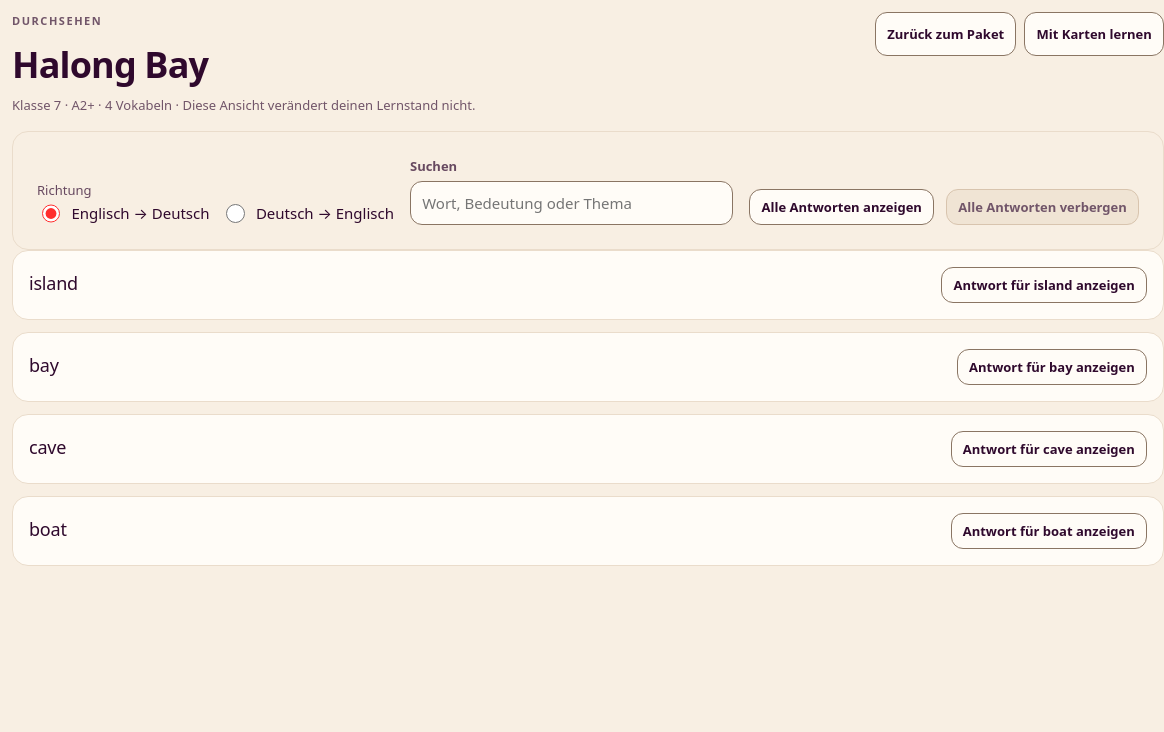
Test: Vokabeln durchsehen › sagt ehrlich, wenn nichts passt
Type "Fahrrad" into the search field labelled "Suchen" at x=572, y=203, box [410, 181, 733, 225]
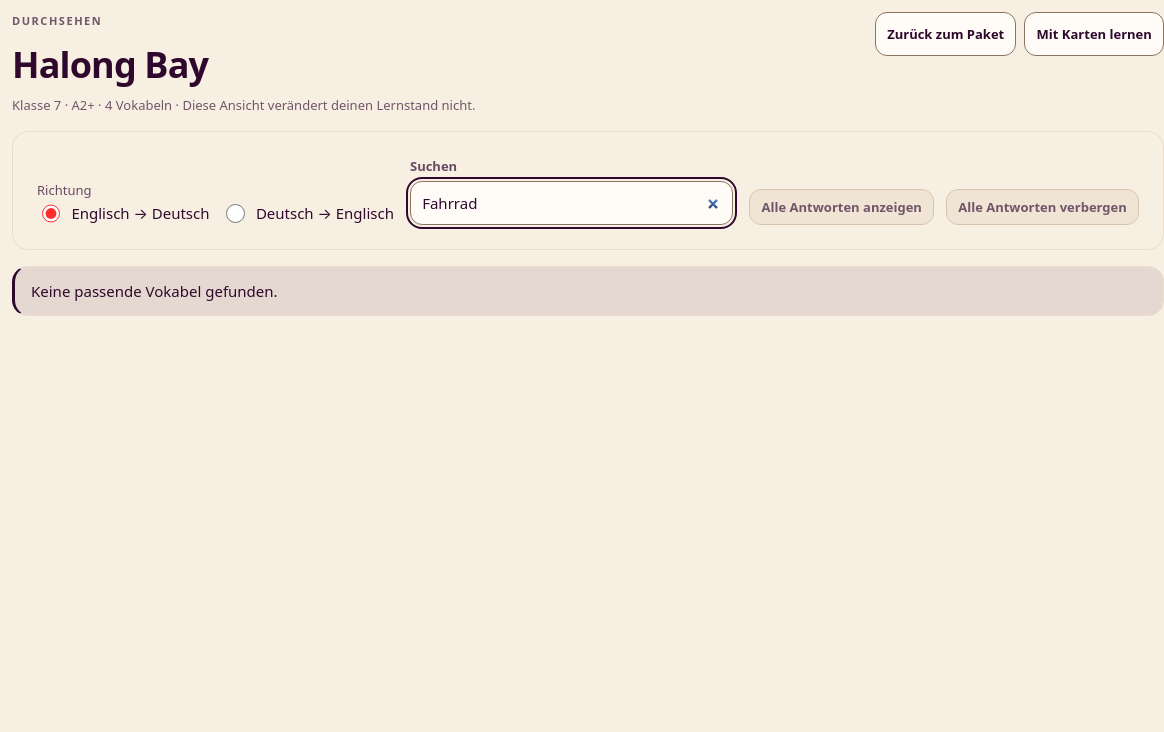
expect the text "Keine passende Vokabel gefunden." is shown: met, box [12, 266, 1163, 316]
